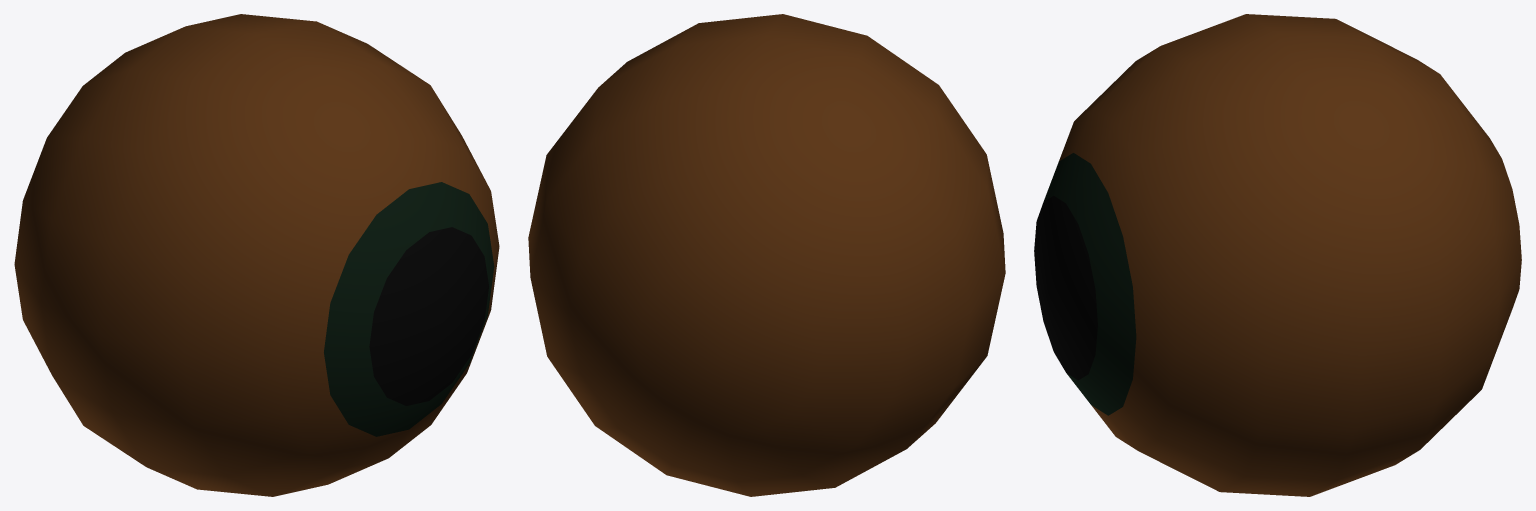
The model's file is genet_eye.obj.
3 views of the same model, side by side, from view 1: azimuth 30°, elevation 25°; view 2: azimuth 150°, elevation 25°; view 3: azimuth 270°, elevation 25° (orthographic).
Visible parts, largest first — view 1: eye; view 2: eye; view 3: eye.
Boxes of the visible parts, x1,y1,x2,y2 form: eye: (14,14,499,496); eye: (528,14,1005,496); eye: (1034,14,1521,496).
Size of the model in its own units: 0.0289 by 0.0289 by 0.0289.
